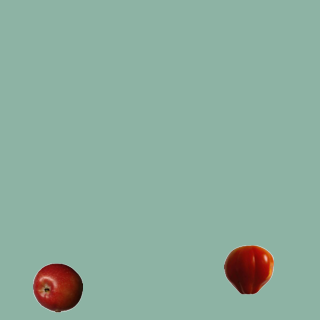Apple Braeburn: (32, 262, 82, 312)
Tomato 1: (223, 244, 273, 294)
